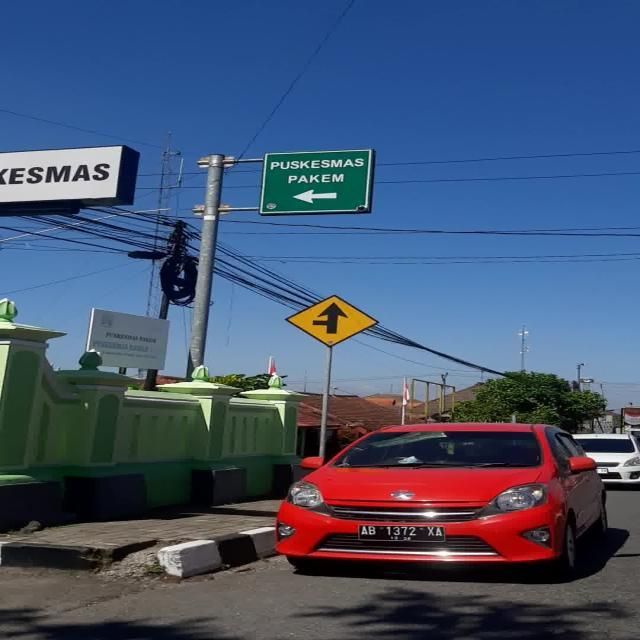Persimpangan 3 Prioritas Kiri: (285, 294, 379, 348)
